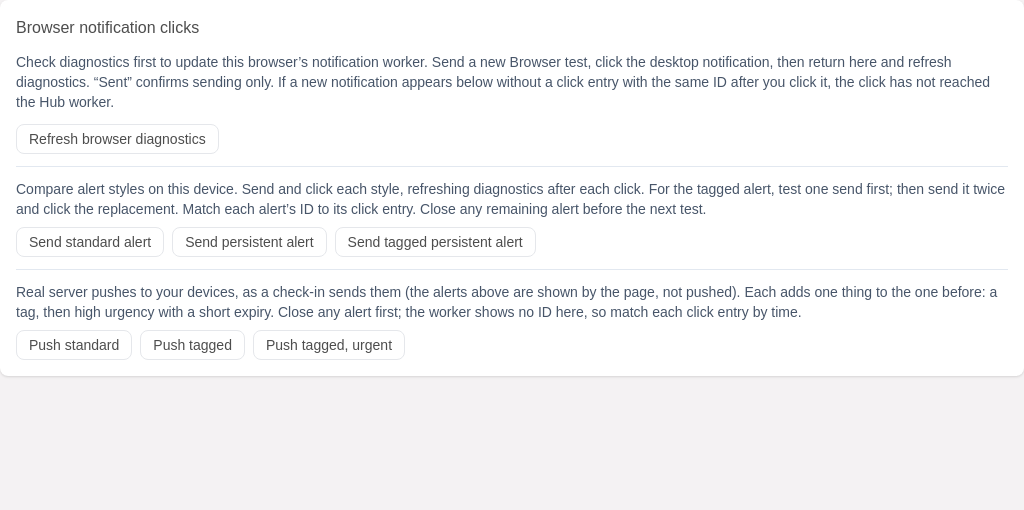
BrowserPushDiagnostics › sends either alert style and shows its ID so the user can match the click entry
This screenshot has width=1024, height=510.
Click the button "Send standard alert" at (90, 242), box [16,227,164,257]
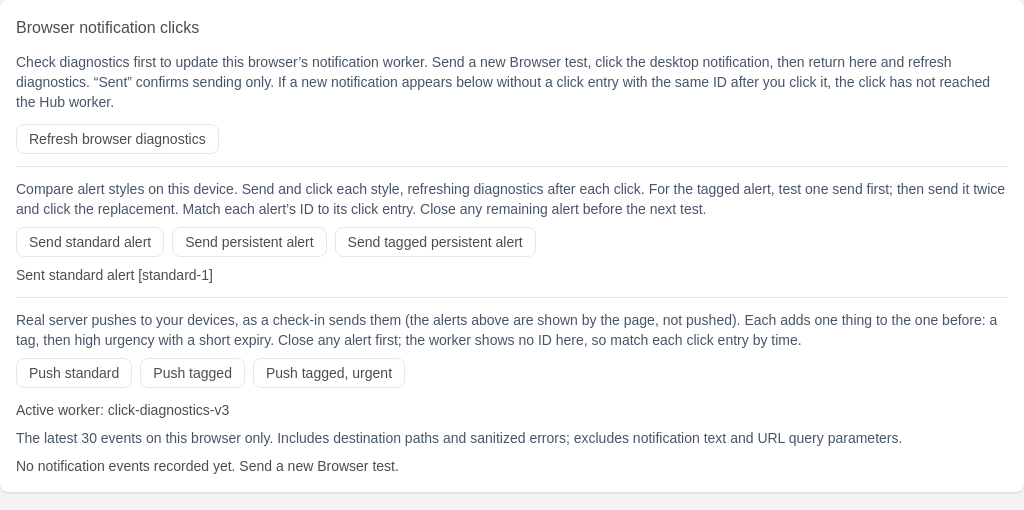
Now the text "Sent standard alert [standard-1]" is shown, box [16,267,213,283]
Click the button "Send persistent alert" at (249, 242), box [172,227,327,257]
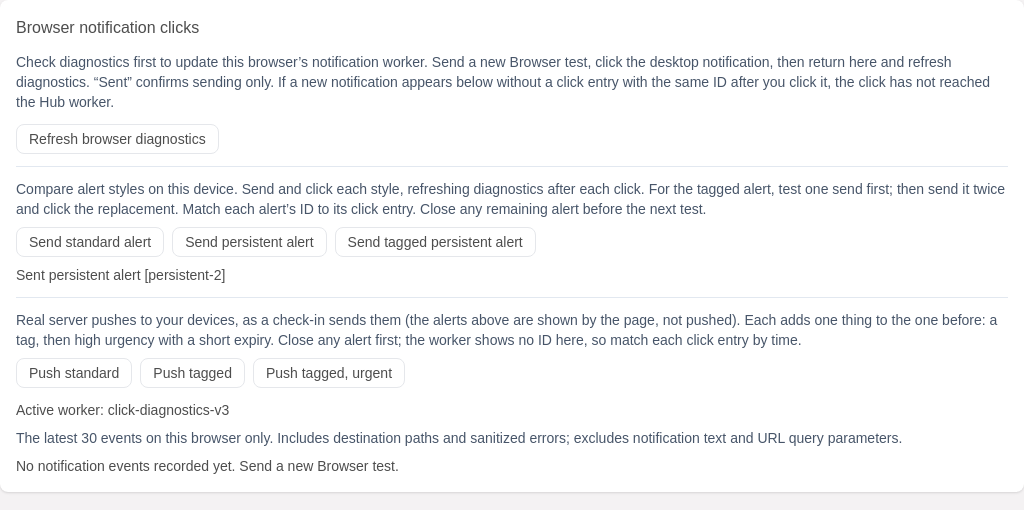
Now the text "Sent persistent alert [persistent-2]" is shown, box [16,267,225,283]
